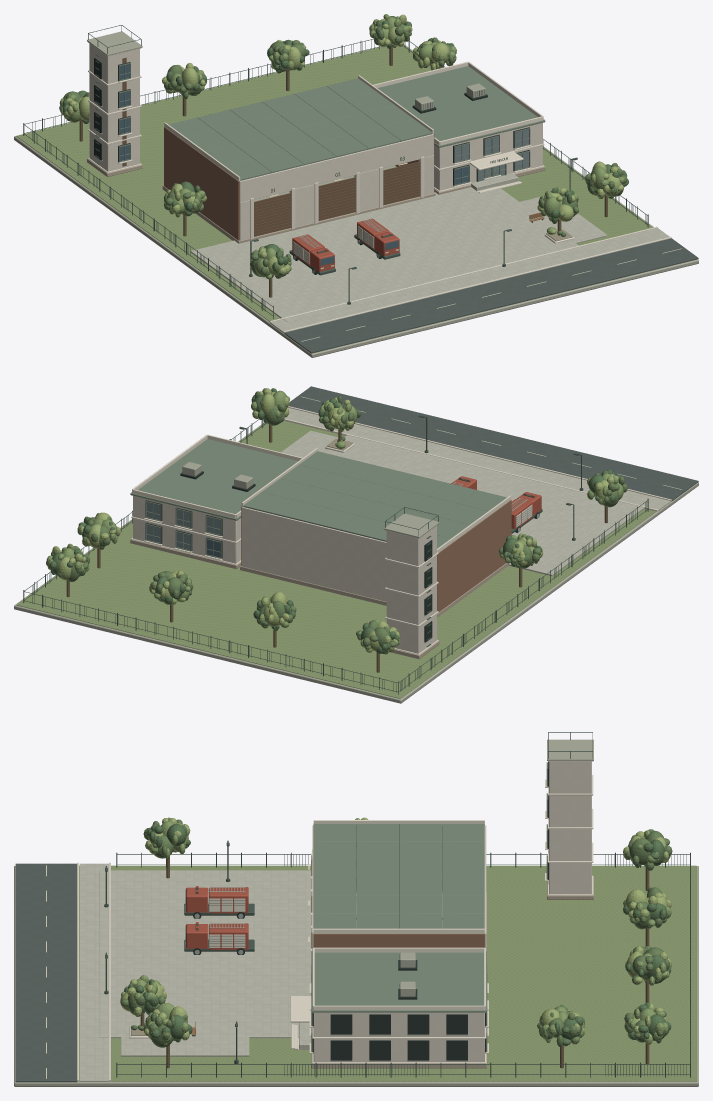
File: fire-station-intact.glb
The picture shows the model from 3 angles, top to bottom: view 1: azimuth 30°, elevation 25°; view 2: azimuth 150°, elevation 25°; view 3: azimuth 270°, elevation 25°; orthographic projection. The views are drawn at different scales.
Parts seen in each view (by area): view 1: 材质批次_plaza_paving, 材质批次_grass, 材质批次_sage_metal_roof, 材质批次_limestone, 材质批次_asphalt, 材质批次_warm_cream_trim, 材质批次_poi_service_concrete, 材质批次_street_metal, 材质批次_poi_exposed_rust, 材质批次_poi_brick_red, 材质批次_leaf_2, 材质批次_leaf_0 (+10 smaller); view 2: 材质批次_grass, 材质批次_sage_metal_roof, 材质批次_limestone, 材质批次_plaza_paving, 材质批次_asphalt, 材质批次_warm_cream_trim, 材质批次_poi_service_concrete, 材质批次_street_metal, 材质批次_poi_brick_red, 材质批次_leaf_2, 材质批次_leaf_1, 材质批次_leaf_0 (+7 smaller); view 3: 材质批次_grass, 材质批次_plaza_paving, 材质批次_sage_metal_roof, 材质批次_asphalt, 材质批次_limestone, 材质批次_warm_cream_trim, 材质批次_poi_service_concrete, 材质批次_street_metal, 材质批次_recess_shadow, 材质批次_leaf_1, 材质批次_leaf_3, 材质批次_leaf_2 (+6 smaller).
Boxes of the visible parts, box(x1,y1,x2,y2) form: 材质批次_plaza_paving: box(190, 173, 669, 332); 材质批次_grass: box(16, 45, 691, 352); 材质批次_sage_metal_roof: box(168, 66, 545, 180); 材质批次_limestone: box(89, 43, 574, 243); 材质批次_asphalt: box(284, 238, 698, 353); 材质批次_warm_cream_trim: box(88, 42, 671, 332); 材质批次_poi_service_concrete: box(14, 31, 698, 357); 材质批次_street_metal: box(23, 25, 648, 318); 材质批次_poi_exposed_rust: box(122, 57, 420, 236); 材质批次_poi_brick_red: box(164, 127, 434, 240); 材质批次_leaf_2: box(59, 14, 623, 275); 材质批次_leaf_0: box(60, 14, 627, 279); 材质批次_grass: box(16, 421, 655, 698); 材质批次_sage_metal_roof: box(130, 439, 506, 548); 材质批次_limestone: box(133, 443, 436, 653); 材质批次_plaza_paving: box(281, 407, 670, 575); 材质批次_asphalt: box(289, 386, 698, 501); 材质批次_warm_cream_trim: box(131, 406, 671, 654); 材质批次_poi_service_concrete: box(14, 423, 698, 703); 材质批次_street_metal: box(23, 415, 648, 694); 材质批次_poi_brick_red: box(241, 500, 511, 611); 材质批次_leaf_2: box(52, 388, 618, 652); 材质批次_leaf_1: box(46, 388, 627, 652); 材质批次_leaf_0: box(46, 390, 623, 654); 材质批次_grass: box(79, 865, 696, 1081); 材质批次_plaza_paving: box(79, 863, 311, 1081); 材质批次_sage_metal_roof: box(311, 824, 486, 1012); 材质批次_asphalt: box(15, 863, 77, 1082); 材质批次_limestone: box(129, 761, 591, 1062); 材质批次_warm_cream_trim: box(77, 761, 593, 1081); 材质批次_poi_service_concrete: box(14, 739, 698, 1086); 材质批次_street_metal: box(104, 732, 690, 1077); 材质批次_recess_shadow: box(312, 761, 548, 1060); 材质批次_leaf_1: box(120, 819, 672, 1047); 材质批次_leaf_3: box(124, 824, 671, 1045); 材质批次_leaf_2: box(120, 817, 671, 1045).
Bounding box in the file's own units: 60 × 19.84 × 80.
28 materials, 5 textured.
